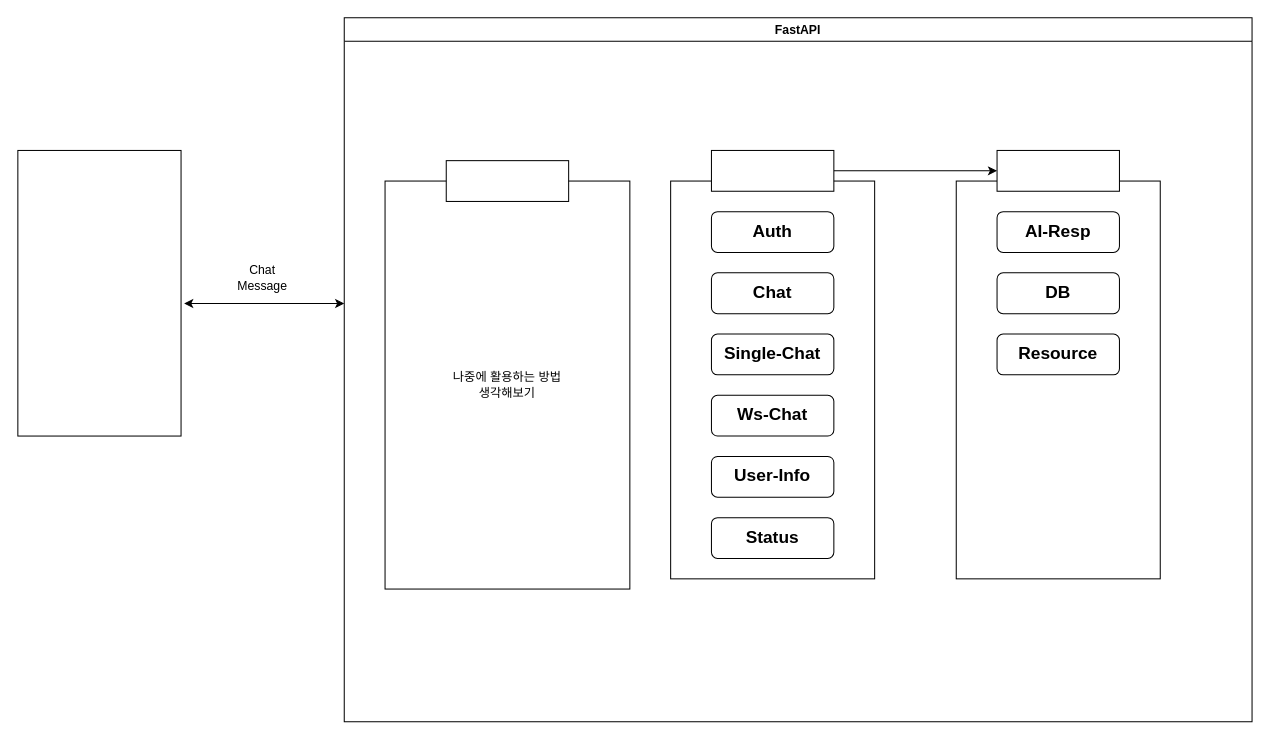
This 1270x740 diagram has some shape labels left out. The shapes that lost their labels are listed below. From the top down, each one's centre as x and y in pixels, then its label:
point 507,180: Kafka
point 772,170: Router
point 1057,170: Controller
point 99,292: Flutter App
